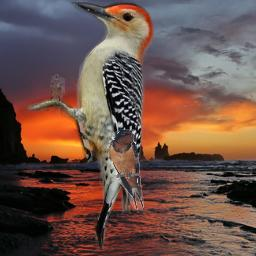Swallow: (108, 129, 144, 211)
Woodpecker: (27, 2, 154, 250)
